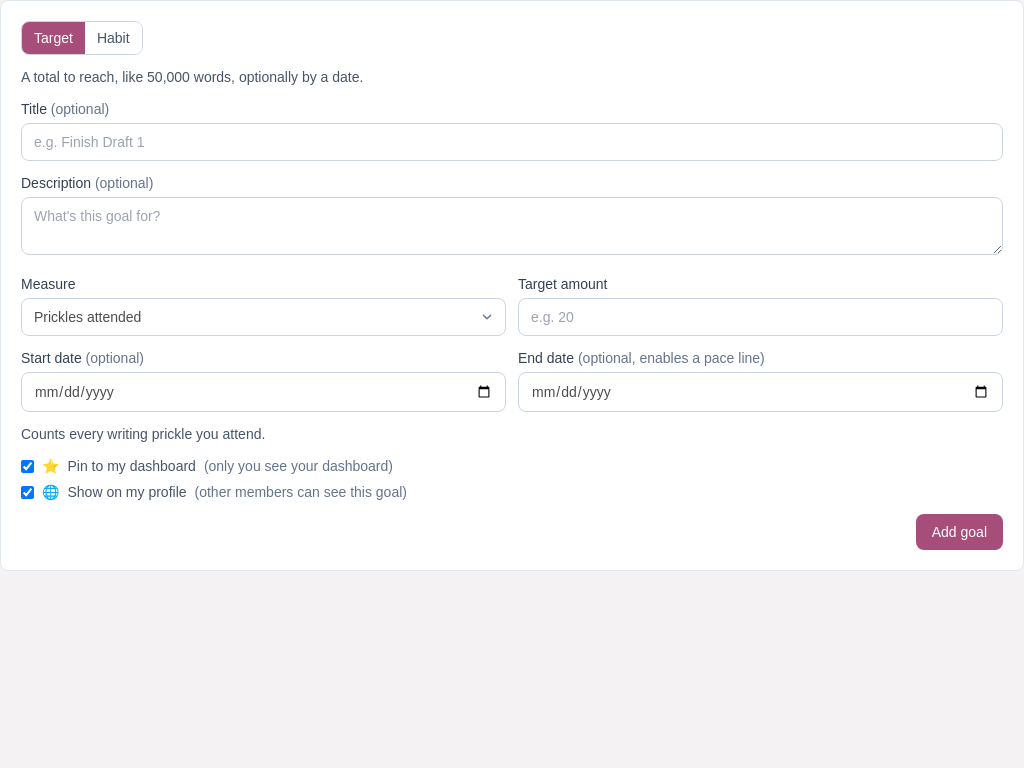
Test case: GoalForm › explains the two kinds of goal
Expected: the text "A total to reach, like 50,000 words, optionally by a date." is shown, [21,69,363,85]
Click the button "Habit": [113, 38] box [85,22,142,54]
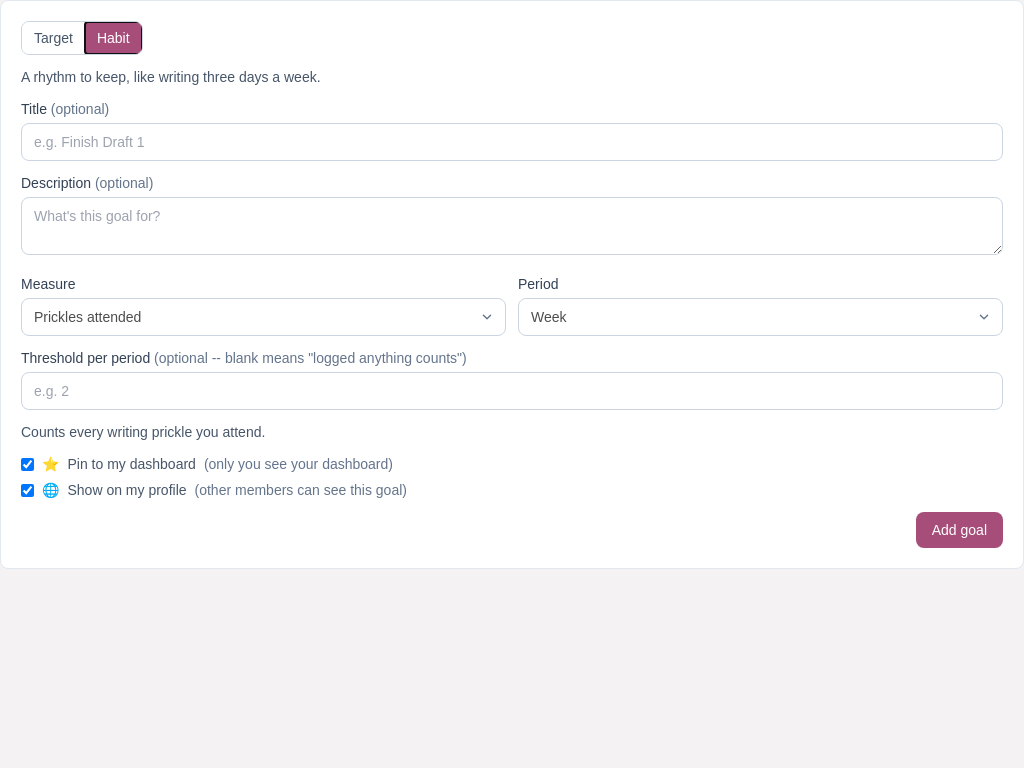
Expected: the text "A rhythm to keep, like writing three days a week." is shown, [21,69,321,85]
Expected: the text "A total to reach" is gone
